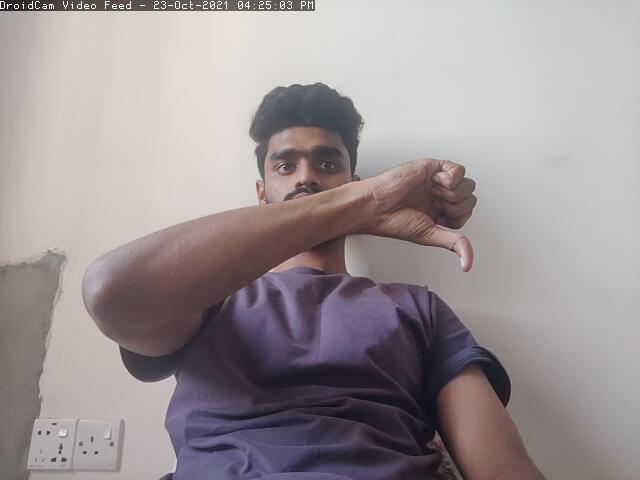ThumbsDown: (384, 125, 484, 272)
